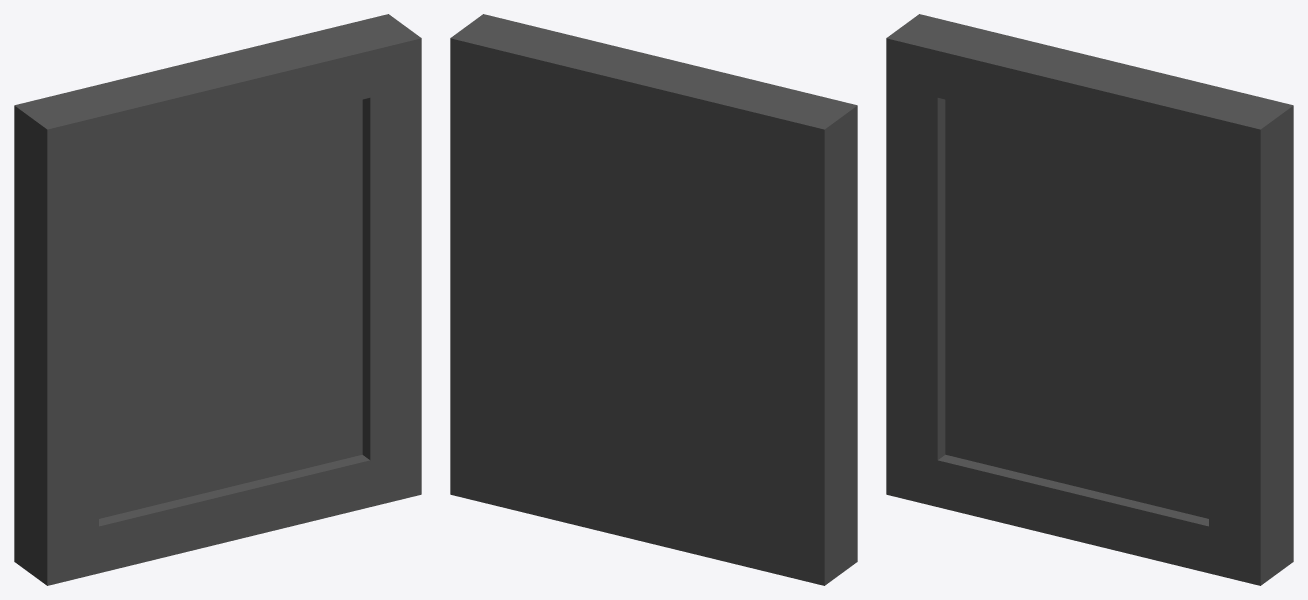
Rendered from Itr_Obj_Frame1_03.FBX.
3 views of the same model, side by side, from view 1: azimuth 30°, elevation 25°; view 2: azimuth 150°, elevation 25°; view 3: azimuth 330°, elevation 25° (orthographic).
Visible parts, largest first — view 1: Itr_Obj_Frame1_03; view 2: Itr_Obj_Frame1_03; view 3: Itr_Obj_Frame1_03.
Boxes of the visible parts, left/top/right/bottom form: Itr_Obj_Frame1_03: left=14, top=14, right=421, bottom=585; Itr_Obj_Frame1_03: left=450, top=14, right=857, bottom=585; Itr_Obj_Frame1_03: left=886, top=14, right=1293, bottom=585.
Bounding box in the file's own units: 15.22 × 17.73 × 2.33.
